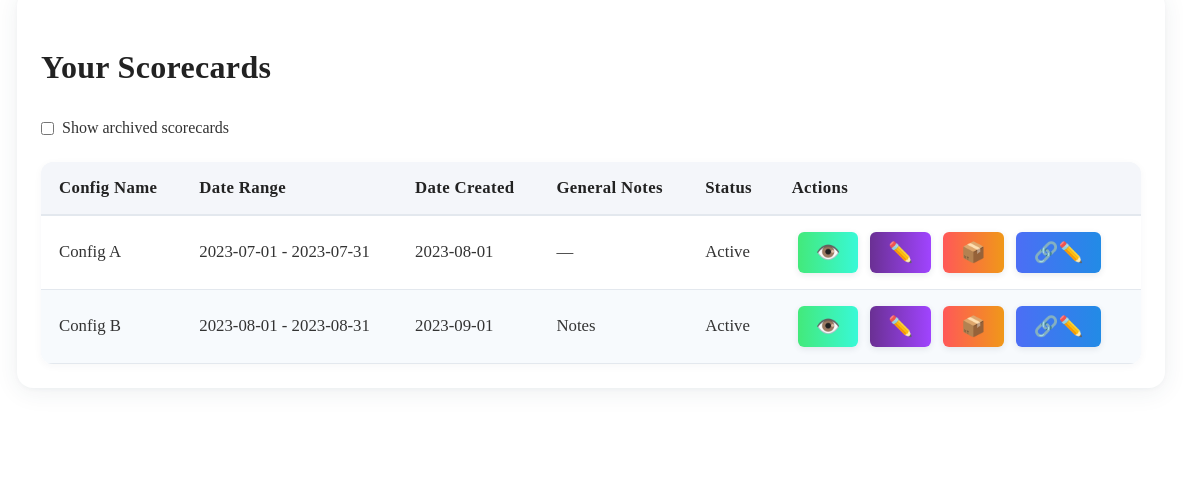
Test: ScorecardsList › toggling the checkbox makes a new fetch request with includeArchived parameter
Expected: the text "Config A" is shown, [41, 216, 181, 290]
# Find and toggle the checkbox
Click the checkbox labelled "Show archived scorecards".
click(48, 128)  # box [41, 122, 54, 134]
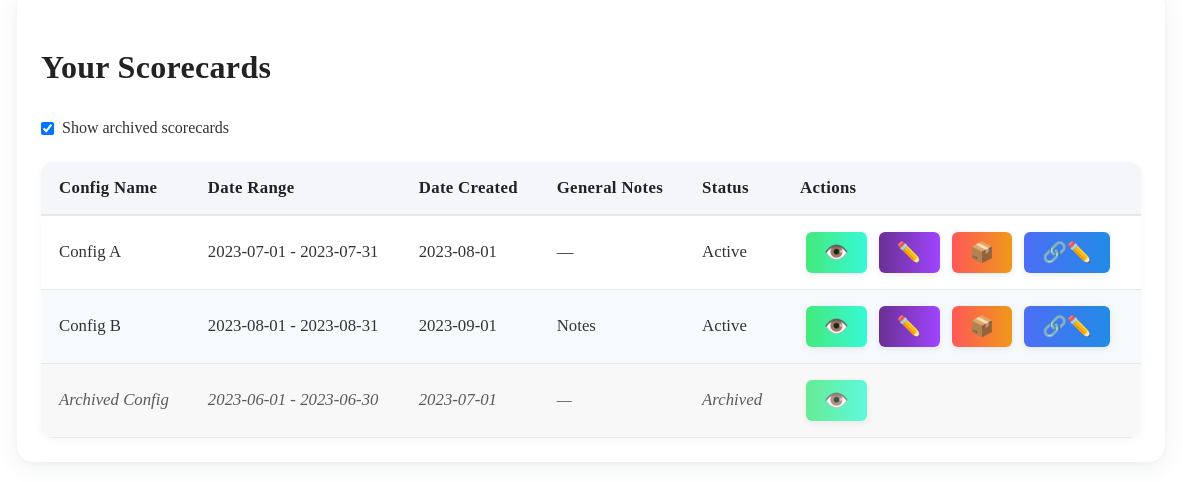
Now the text "Archived Config" is shown, box [41, 364, 190, 438]
Now the text "Archived" is shown, box [684, 364, 782, 438]
